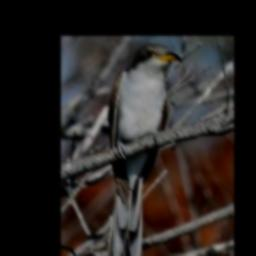Cuckoo: (107, 43, 182, 256)
